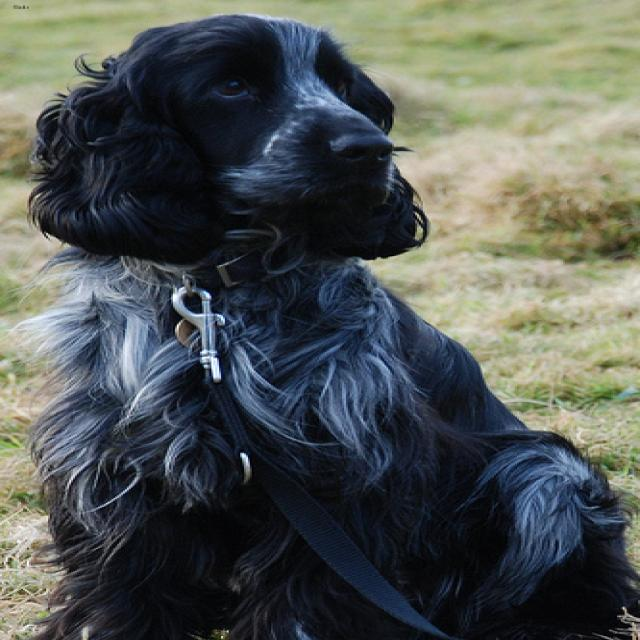dog-english_cocker_spaniel: (2, 1, 636, 637)
